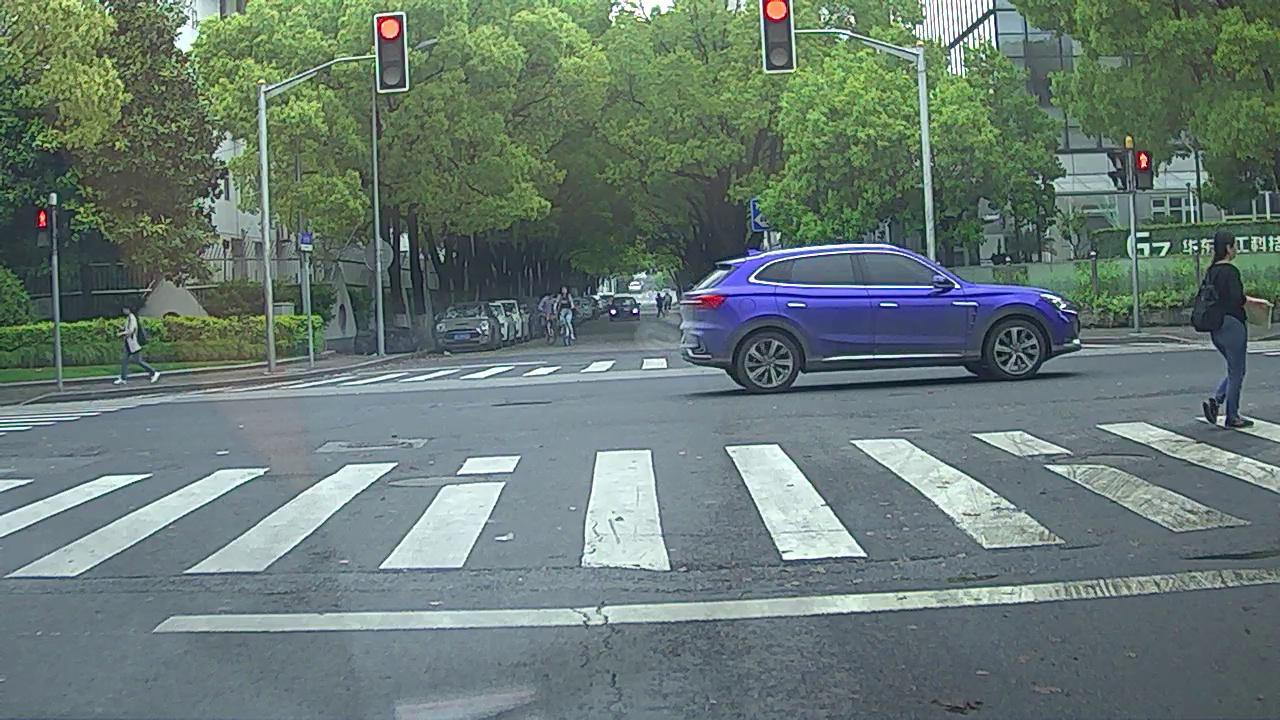traffic_light: (373, 13, 407, 91), (761, 1, 795, 72)
